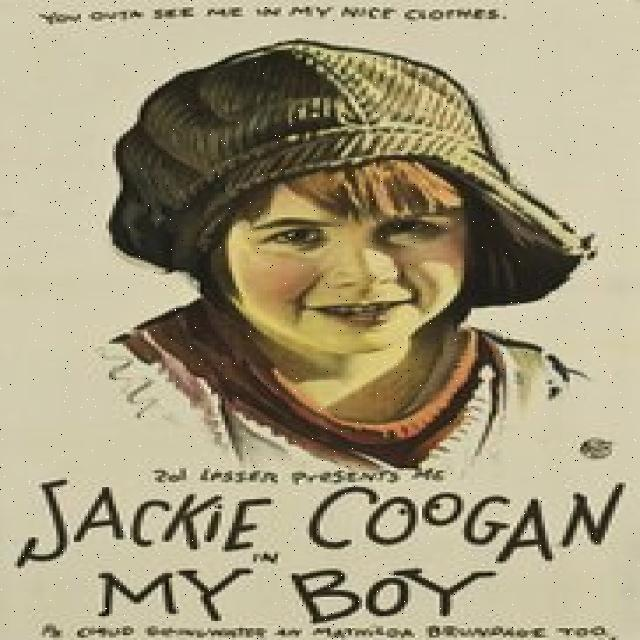movie-judul: (0, 457, 640, 633)
picture: (89, 35, 633, 470)
